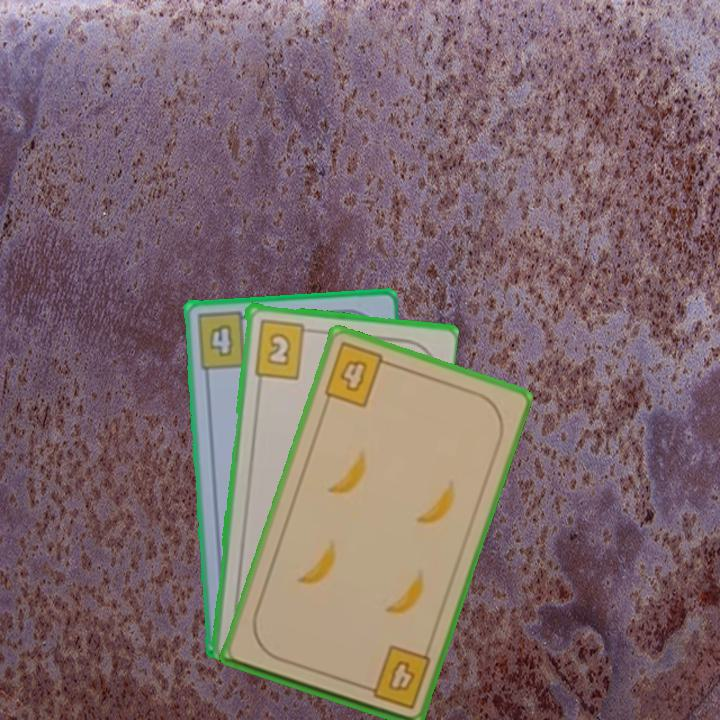2b: (250, 316, 316, 381)
4b: (320, 338, 395, 411), (357, 642, 434, 712), (192, 309, 257, 372)
